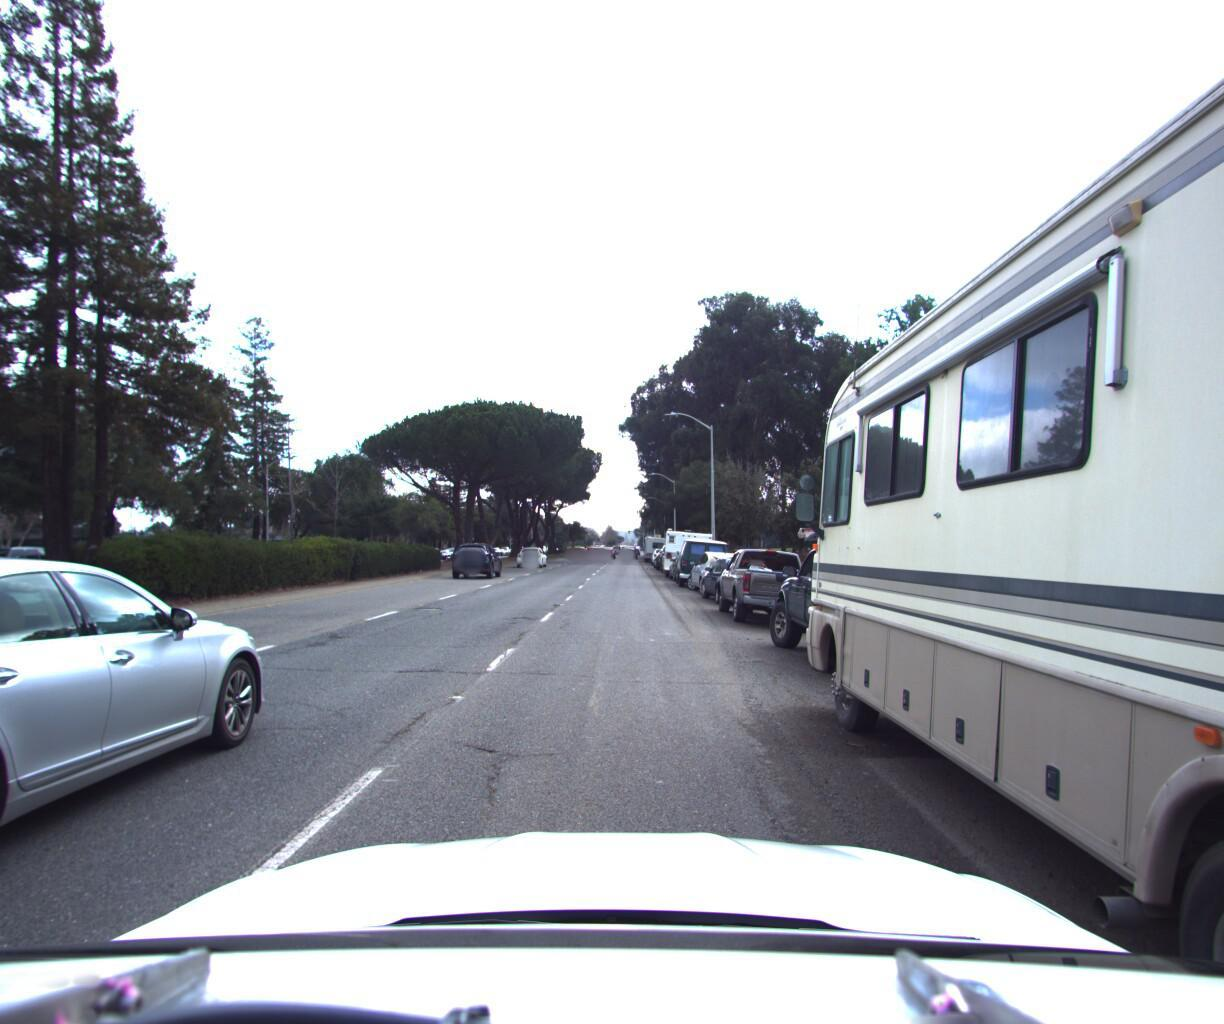car: (761, 510, 1008, 692), (711, 537, 832, 626), (692, 548, 784, 601), (670, 530, 734, 583), (683, 543, 752, 590), (453, 536, 506, 575), (665, 544, 710, 579), (515, 540, 547, 564), (646, 542, 670, 559), (587, 539, 608, 555)
other_vehicle: (657, 519, 714, 573), (638, 527, 673, 559)
